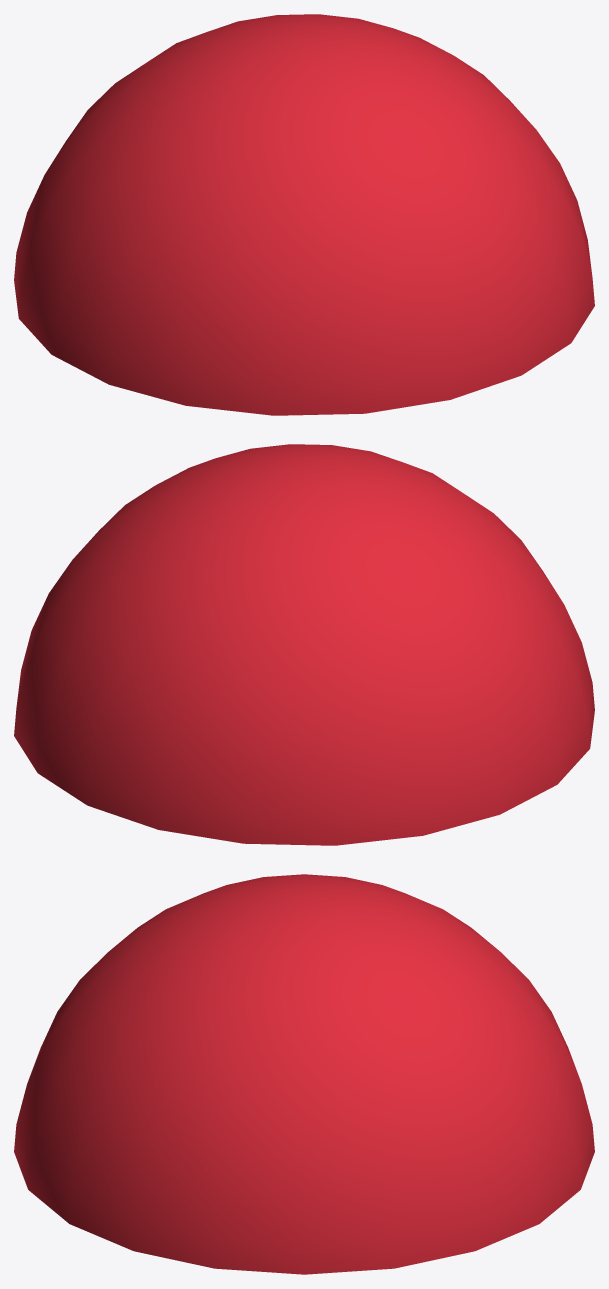
File: Foco.obj
The picture shows the model from 3 angles, top to bottom: view 1: azimuth 30°, elevation 25°; view 2: azimuth 150°, elevation 25°; view 3: azimuth 270°, elevation 25°; orthographic projection.
Parts seen in each view (by area): view 1: polySurface1 PC:group_pasted__group2_pasted__pasted__group_paste; view 2: polySurface1 PC:group_pasted__group2_pasted__pasted__group_paste; view 3: polySurface1 PC:group_pasted__group2_pasted__pasted__group_paste.
Boxes of the visible parts, x1,y1,x2,y2 form: polySurface1 PC:group_pasted__group2_pasted__pasted__group_paste: (14, 14, 594, 415); polySurface1 PC:group_pasted__group2_pasted__pasted__group_paste: (14, 444, 594, 845); polySurface1 PC:group_pasted__group2_pasted__pasted__group_paste: (14, 874, 594, 1274).
Bounding box in the file's own units: 1.99 × 0.9475 × 1.99.
1 material, 1 textured.
